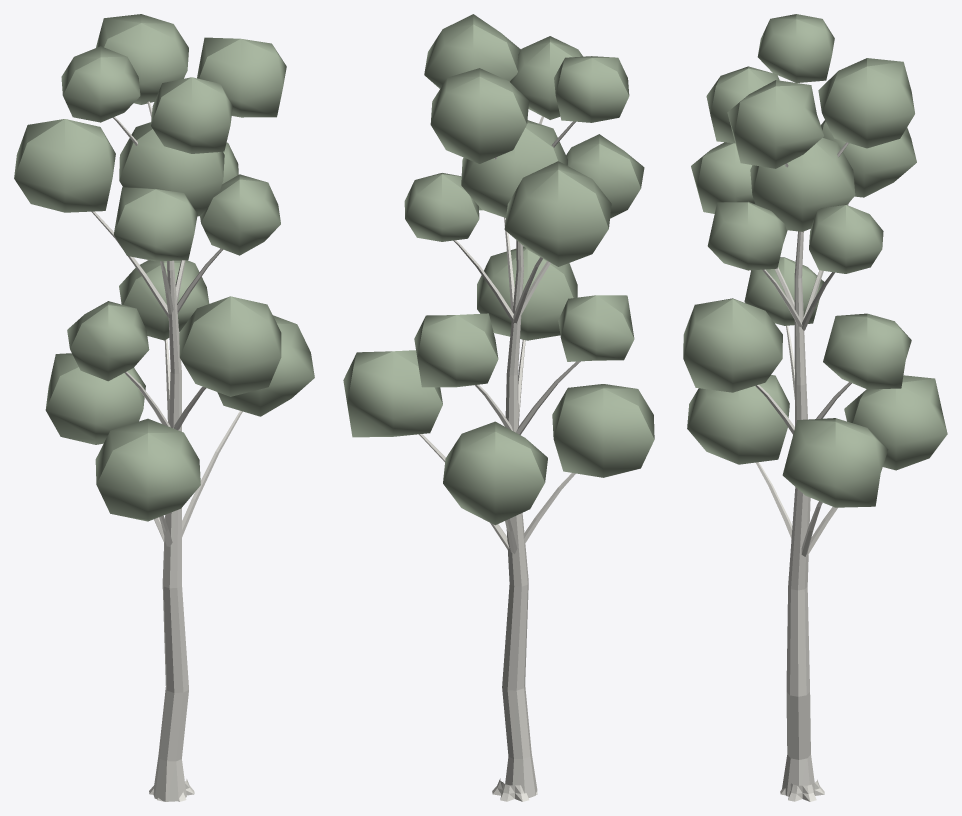
The model's file is dense-temperate-forest-flora-ash-mature-8a999d7c__28323.glb.
3 renders of one model, left to right at view 1: azimuth 30°, elevation 25°; view 2: azimuth 150°, elevation 25°; view 3: azimuth 270°, elevation 25°, orthographic. The views are drawn at different scales.
Parts seen in each view (by area): view 1: ash-mature; view 2: ash-mature; view 3: ash-mature.
Part boxes in pixels (x1,y1,x2,y2): ash-mature: (14,14,314,801); ash-mature: (343,14,654,801); ash-mature: (683,14,947,801).
Bounding box in the file's own units: 9.23 × 23.63 × 7.67.
